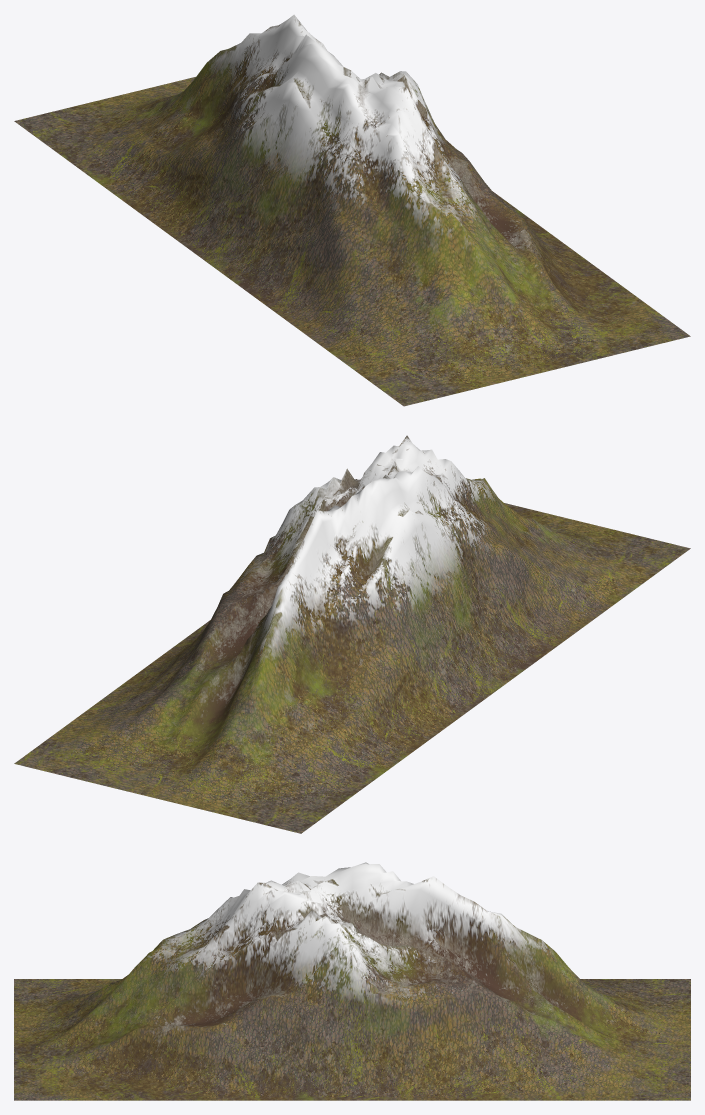
The model's file is mountain_low_poly.glb.
3 renders of one model, top to bottom at view 1: azimuth 30°, elevation 25°; view 2: azimuth 150°, elevation 25°; view 3: azimuth 270°, elevation 25°, orthographic. The views are drawn at different scales.
Visible parts, largest first — view 1: Object_2; view 2: Object_2; view 3: Object_2.
Part boxes in pixels (box(x1,y1,x2,y2)): Object_2: box(14, 14, 690, 406); Object_2: box(14, 435, 690, 833); Object_2: box(14, 862, 690, 1100).
Bounding box in the file's own units: 600 × 376 × 1411.
1 material, 1 textured.
